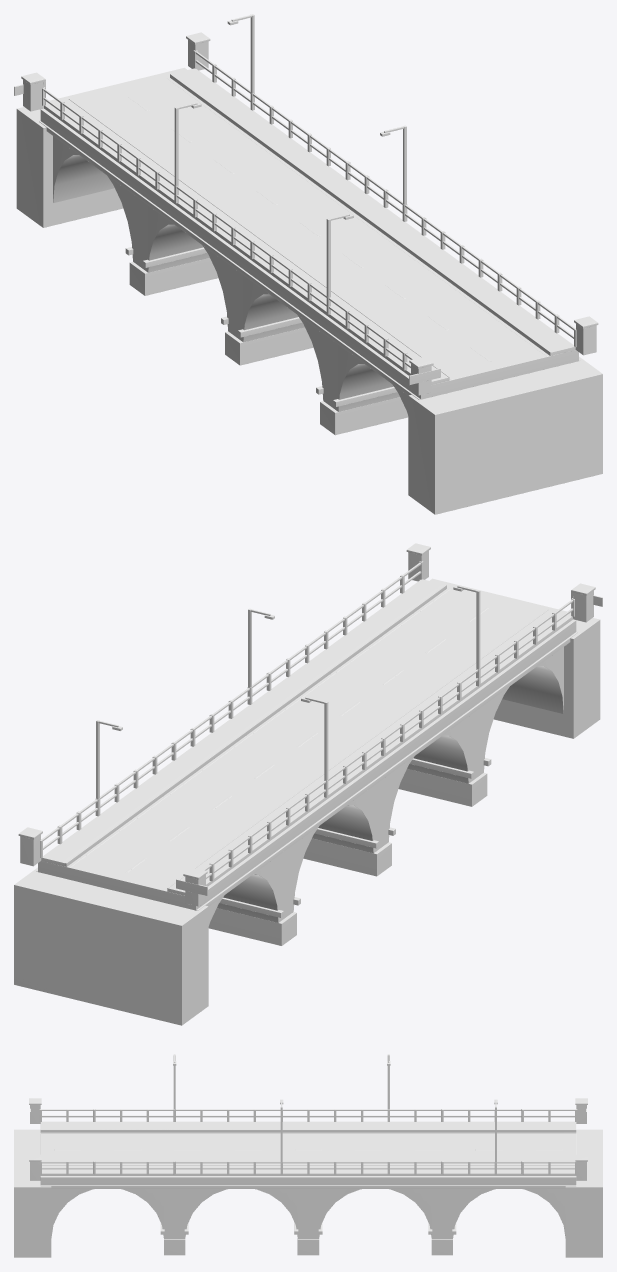
File: road_bridge.glb
3 views of the same model, one above another, from view 1: azimuth 30°, elevation 25°; view 2: azimuth 150°, elevation 25°; view 3: azimuth 270°, elevation 25° (orthographic). The views are drawn at different scales.
Parts seen in each view (by area): view 1: RoadBridge; view 2: RoadBridge; view 3: RoadBridge.
Part boxes in pixels (box(x1,y1,x2,y2)): RoadBridge: box(14, 14, 602, 514); RoadBridge: box(14, 543, 602, 1025); RoadBridge: box(14, 1054, 602, 1257).
Size of the model in its own units: 11.42 by 12.2 by 44.
Materials: 1 (1 with a texture image).
